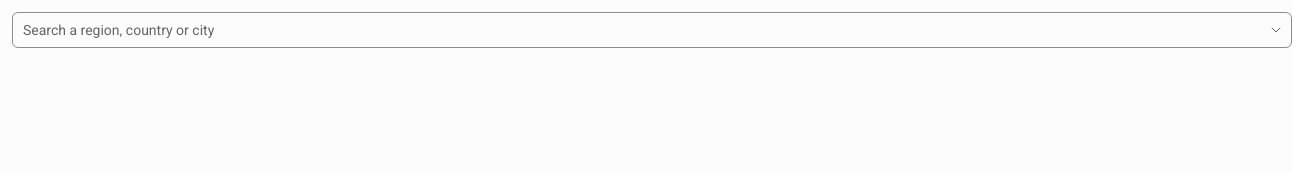
Scenario: PlaceRows › offers no Worldwide option
Type "w" into the dropdown named "Add a place" at (638, 30), box [13,12,1264,48]
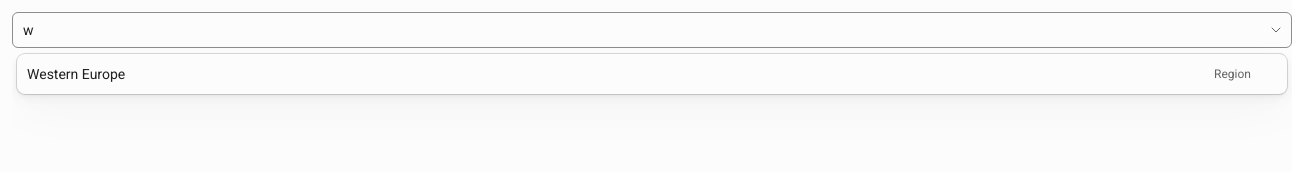
expect the option "Western Europe Region" is shown: met, box [27,66,1251,82]
